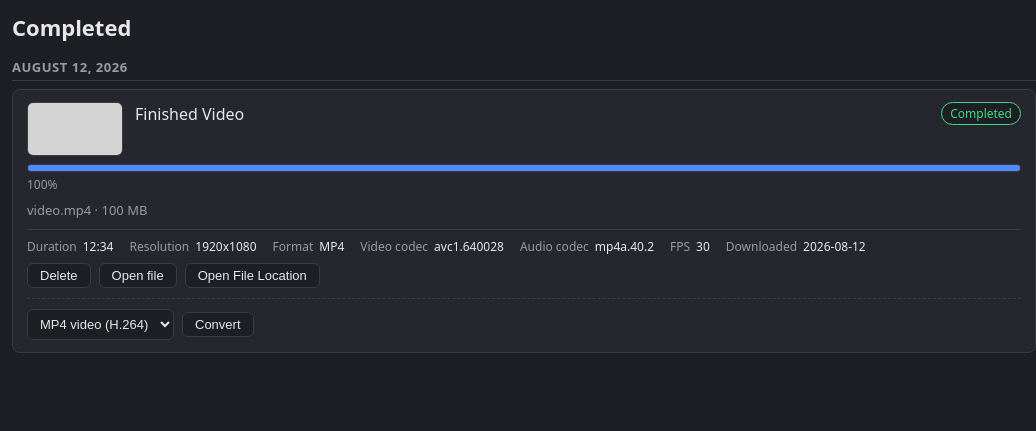
DownloadsPage › shows an error when deleting a download fails
The width and height of the screenshot is (1036, 431).
Click the button "Delete" at (59, 276), box [27,263,91,288]
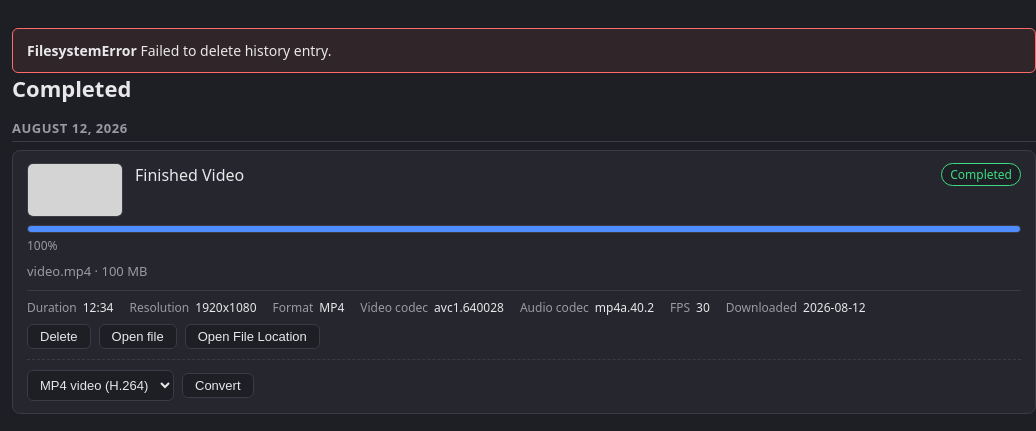
Expected: the text "Finished Video" is shown, [135,164,244,186]
Expected: the message shows "Failed to delete history entry.", [140,41,331,60]
